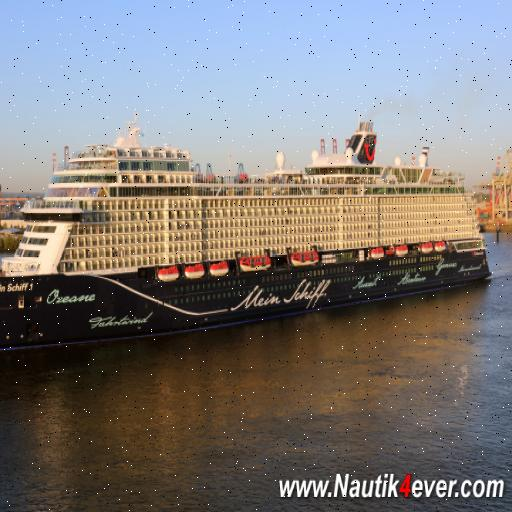cruises: (1, 111, 501, 357)
